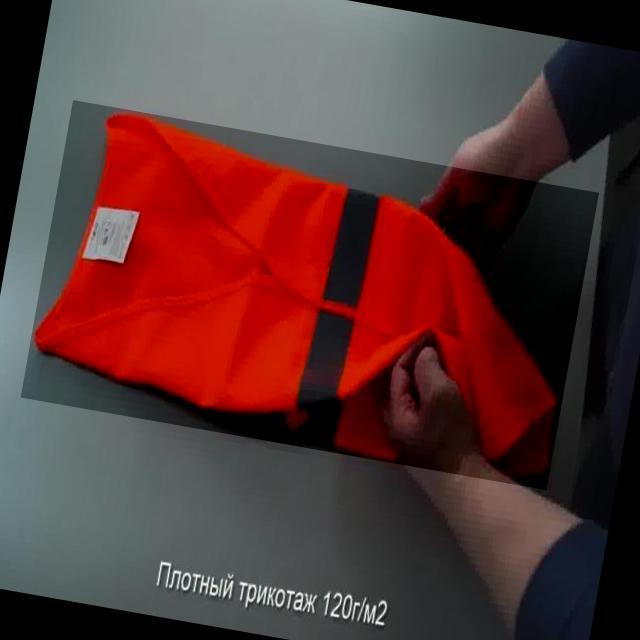Safety Vest: (20, 100, 598, 490)
bare-arms: (404, 82, 578, 249), (374, 330, 502, 511)
